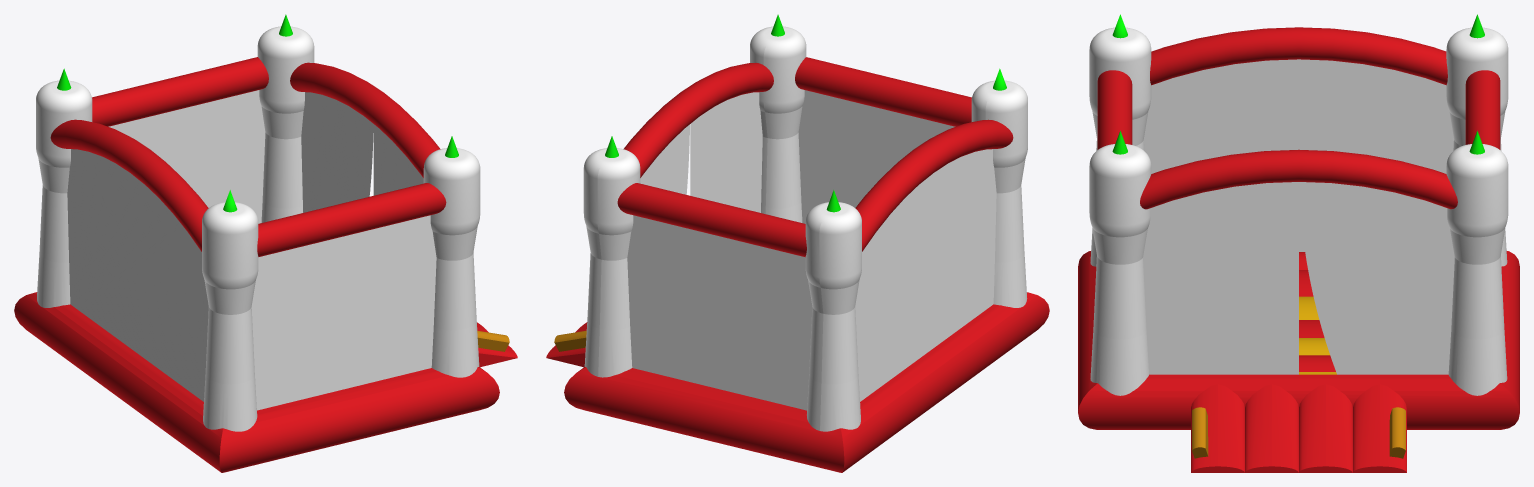
3 renders of one model, left to right at view 1: azimuth 30°, elevation 25°; view 2: azimuth 150°, elevation 25°; view 3: azimuth 270°, elevation 25°, orthographic. The views are drawn at different scales.
Parts seen in each view (by area): view 1: Layer0_001, Group_001, Group_002, Group_005; view 2: Layer0_001, Group_001, Group_002, Group_004; view 3: Layer0_001, Group_001, Group_002, Group_004, Group_005.
Boxes of the visible parts, bbox=[...] form: Layer0_001: bbox=[14, 14, 499, 472]; Group_001: bbox=[50, 57, 446, 256]; Group_002: bbox=[477, 322, 517, 367]; Group_005: bbox=[477, 330, 509, 351]; Layer0_001: bbox=[564, 14, 1049, 472]; Group_001: bbox=[617, 57, 1013, 257]; Group_002: bbox=[546, 322, 587, 367]; Group_004: bbox=[554, 330, 586, 351]; Layer0_001: bbox=[1078, 14, 1519, 429]; Group_001: bbox=[1097, 27, 1500, 209]; Group_002: bbox=[1191, 384, 1406, 472]; Group_004: bbox=[1389, 407, 1405, 458]; Group_005: bbox=[1192, 407, 1208, 458].
Bounding box in the file's own units: 234 × 175 × 238.
